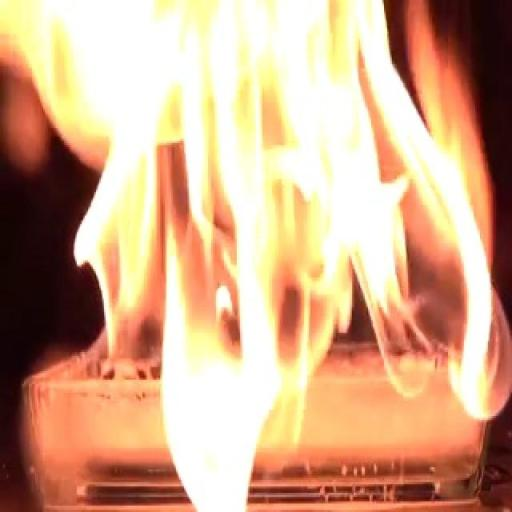smoke: (54, 2, 511, 472)
